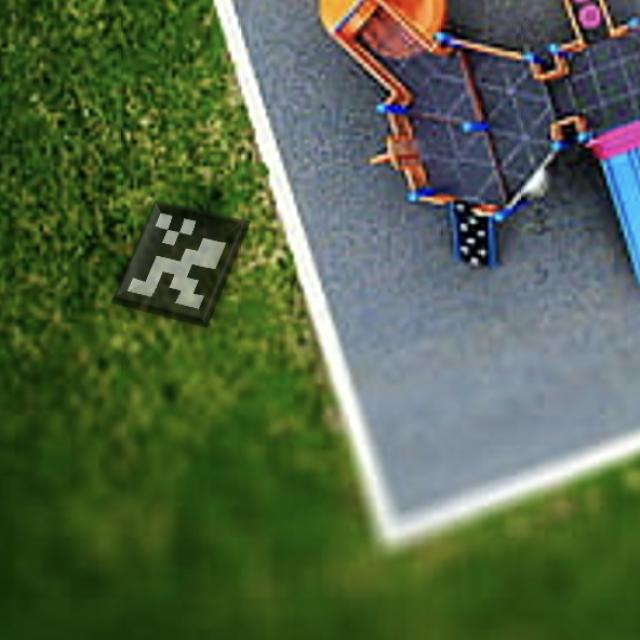marker: (107, 193, 257, 336)
